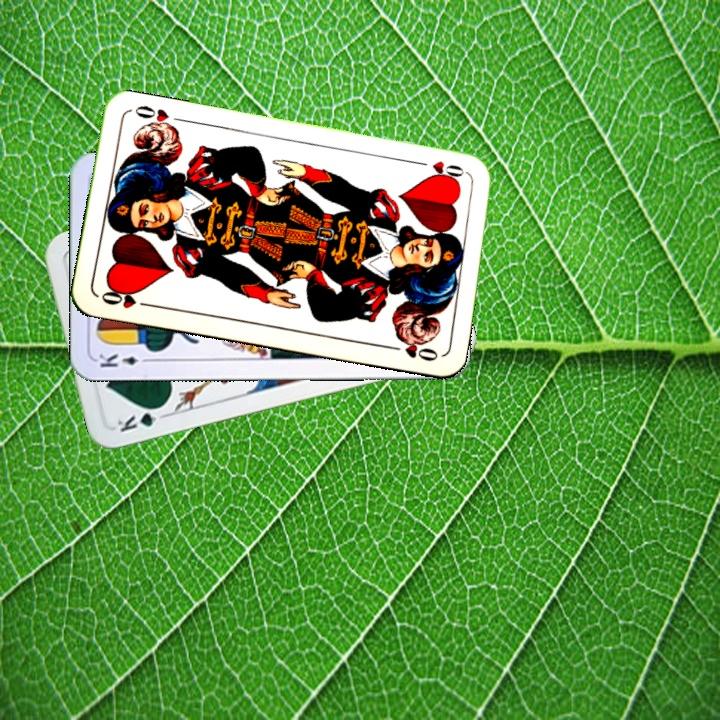EK: (95, 349, 154, 370)
GK: (113, 402, 170, 435)
HO: (97, 283, 154, 311), (426, 157, 472, 183)
